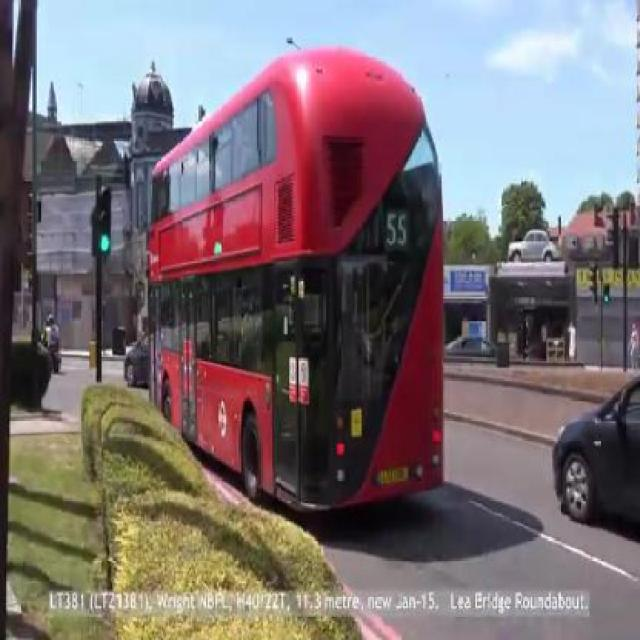bus: (145, 46, 446, 519)
